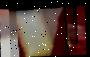scratch: (6, 1, 81, 57)
